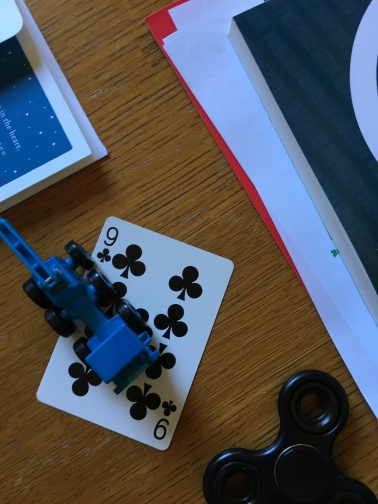nine: (39, 215, 233, 452)
